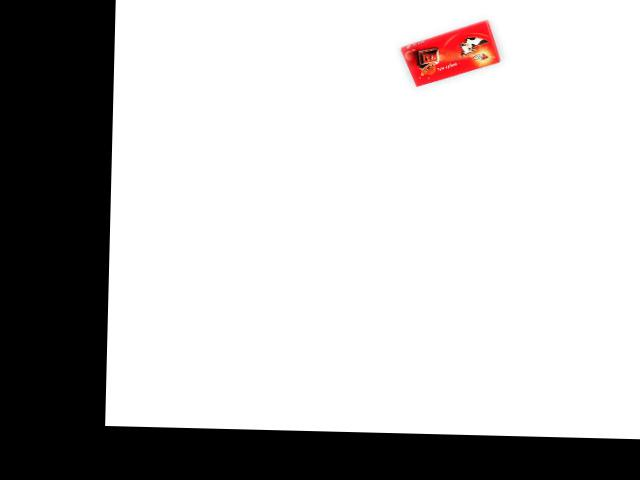chocolate: (398, 18, 499, 90)
